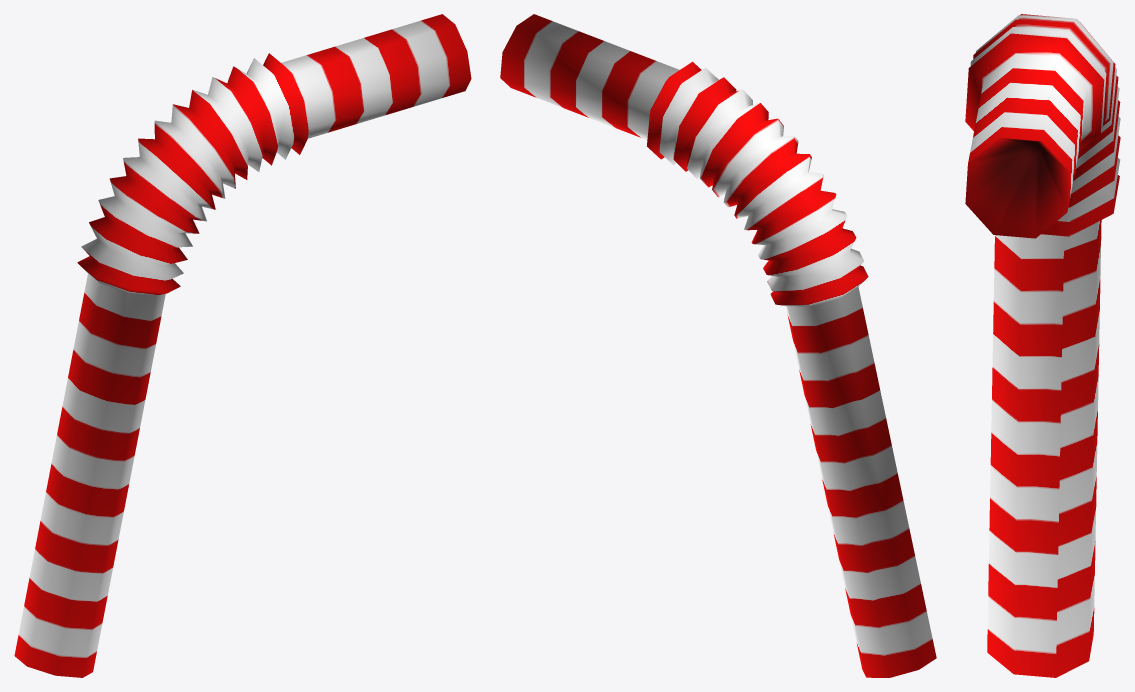
The model's file is straw_final.obj.
3 renders of one model, left to right at view 1: azimuth 30°, elevation 25°; view 2: azimuth 150°, elevation 25°; view 3: azimuth 270°, elevation 25°, orthographic. The views are drawn at different scales.
Parts seen in each view (by area): view 1: Cylinder; view 2: Cylinder; view 3: Cylinder.
Part boxes in pixels (<box>): Cylinder: <box>14,14,471,677</box>; Cylinder: <box>500,14,936,677</box>; Cylinder: <box>965,14,1120,677</box>.
Size of the model in its own units: 24.59 by 30.95 by 5.6.
Materials: 1 (1 with a texture image).
